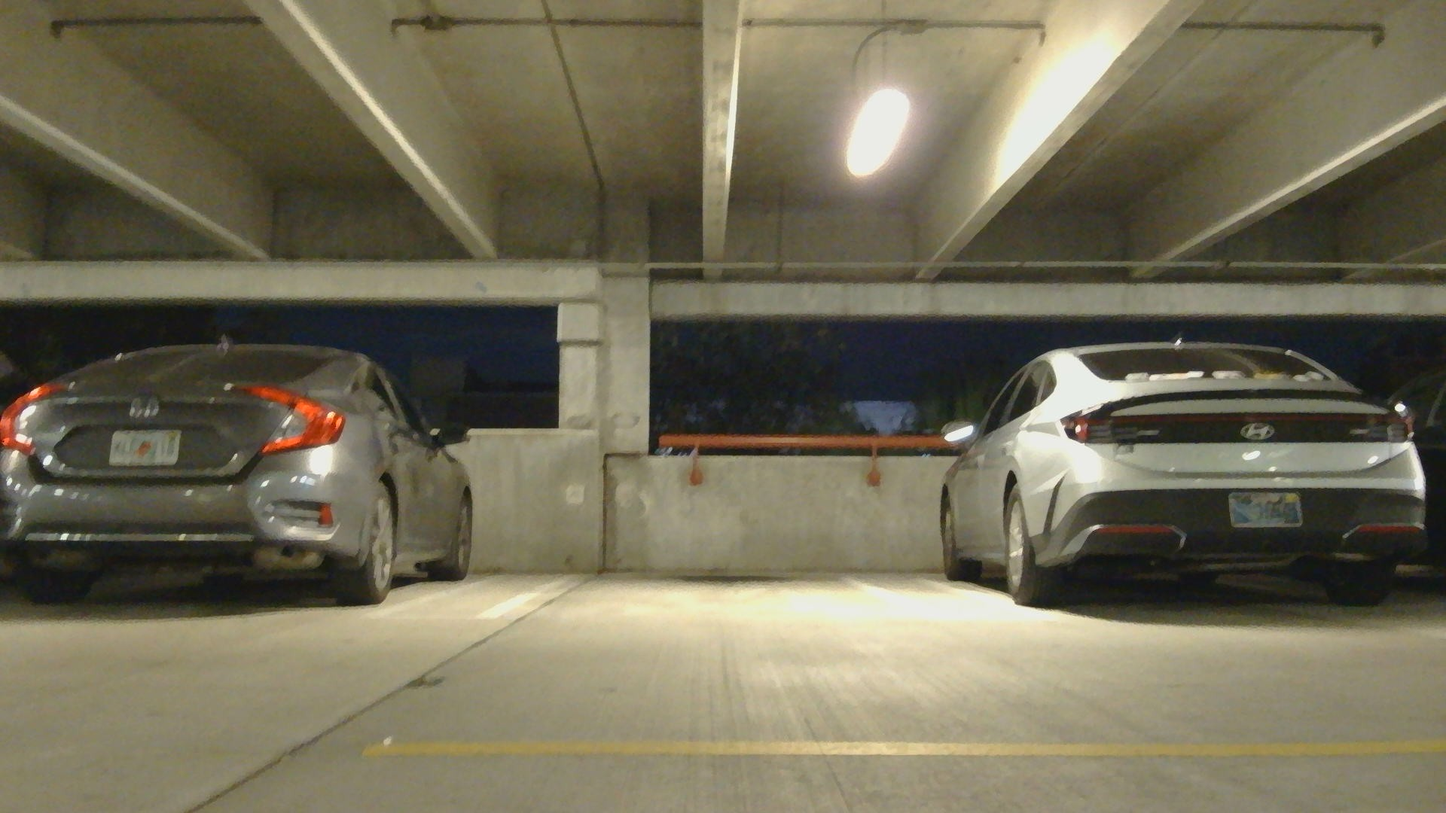empty_spot: (471, 494, 992, 624)
occupied_spot: (934, 340, 1432, 626), (9, 340, 479, 618)
